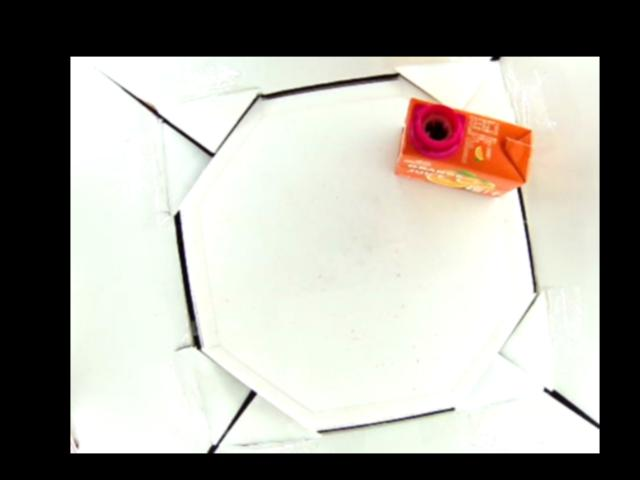Bottle: (393, 98, 534, 196)
